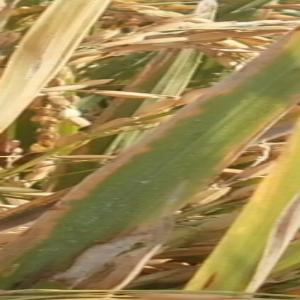Bacterial_Blight: (198, 57, 275, 153), (238, 189, 300, 292)
